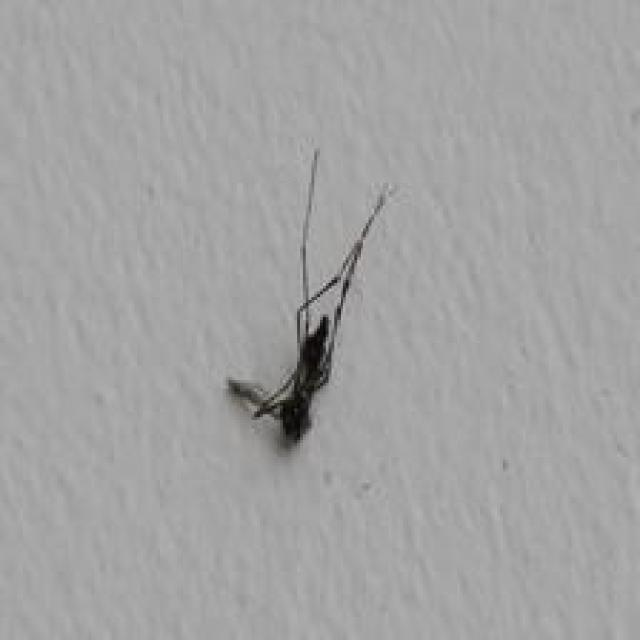Aedes albopictus: (226, 146, 394, 446)
